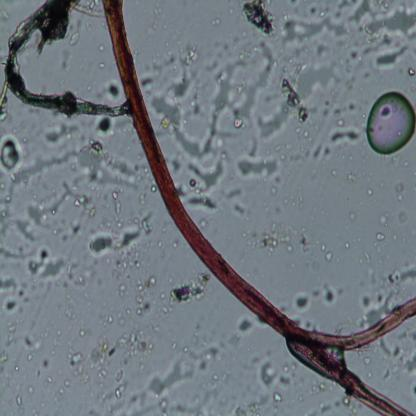Air bubble: (365, 89, 416, 155)
Background material: (153, 43, 285, 161), (0, 142, 136, 246), (67, 320, 160, 385), (136, 340, 226, 407), (111, 252, 169, 319), (0, 138, 41, 226), (25, 184, 89, 238), (88, 209, 156, 255), (181, 157, 228, 213), (247, 361, 298, 411), (23, 247, 88, 286), (348, 1, 416, 36), (245, 223, 309, 254), (375, 333, 416, 379), (295, 60, 341, 97), (365, 36, 409, 73), (168, 273, 210, 311), (283, 15, 346, 40), (355, 291, 398, 327), (282, 77, 312, 124), (371, 262, 416, 290), (243, 0, 277, 37), (236, 152, 278, 180), (0, 273, 26, 314), (134, 158, 156, 200), (300, 374, 332, 402), (44, 121, 82, 144), (37, 367, 62, 397), (330, 127, 360, 146), (317, 284, 340, 308), (228, 187, 247, 216), (292, 290, 314, 311), (96, 113, 114, 138), (312, 402, 341, 416), (3, 320, 18, 347), (236, 316, 254, 338), (23, 336, 39, 360), (155, 219, 167, 249), (312, 142, 332, 160), (350, 249, 370, 266), (107, 81, 121, 104), (340, 396, 356, 414), (320, 244, 333, 263), (68, 30, 81, 48), (394, 179, 404, 202), (0, 348, 10, 368), (373, 230, 387, 244), (347, 167, 357, 184), (39, 357, 51, 370), (378, 212, 389, 226), (14, 392, 22, 406), (367, 187, 376, 199), (96, 62, 106, 70), (175, 244, 180, 249)
Cellulose filter fibre: (3, 1, 127, 118)
Cotton: (102, 0, 416, 416)
